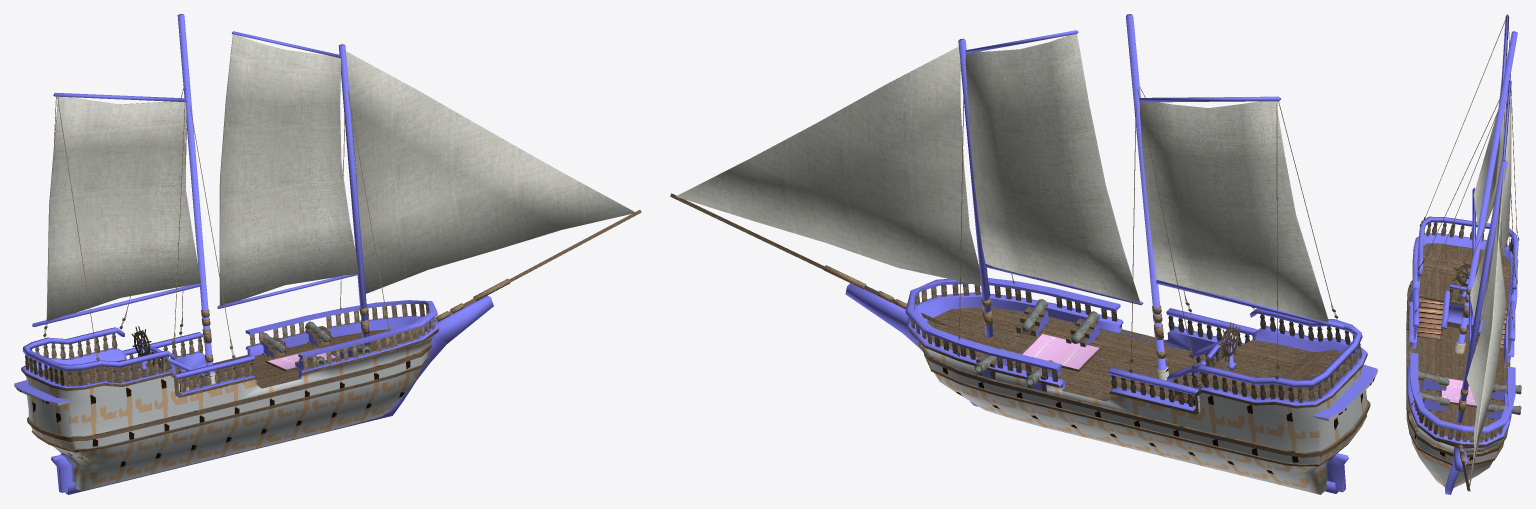
Rendered from ship 2.fbx.
3 views of the same model, side by side, from view 1: azimuth 30°, elevation 25°; view 2: azimuth 150°, elevation 25°; view 3: azimuth 270°, elevation 25° (orthographic). The views are drawn at different scales.
Parts seen in each view (by area): view 1: SolidParts, Ropes_Ropes_0; view 2: SolidParts, Ropes_Ropes_0, SolidParts.003_Metal_0, SolidParts.003_Planks01_0; view 3: SolidParts, Ropes_Ropes_0, SolidParts.003_Metal_0, SolidParts.003_Wood01_0, SolidParts.003_Planks01_0.
Part boxes in pixels (x1=…): SolidParts: x1=14, y1=14, x2=641, y2=494; Ropes_Ropes_0: x1=44, y1=88, x2=392, y2=361; SolidParts: x1=670, y1=14, x2=1377, y2=494; Ropes_Ropes_0: x1=958, y1=87, x2=1337, y2=380; SolidParts.003_Metal_0: x1=974, y1=299, x2=1099, y2=386; SolidParts.003_Planks01_0: x1=976, y1=306, x2=1098, y2=391; SolidParts: x1=1406, y1=14, x2=1518, y2=494; Ropes_Ropes_0: x1=1411, y1=15, x2=1518, y2=420; SolidParts.003_Metal_0: x1=1418, y1=371, x2=1521, y2=414; SolidParts.003_Wood01_0: x1=1422, y1=374, x2=1506, y2=419; SolidParts.003_Planks01_0: x1=1422, y1=371, x2=1506, y2=419.
Size of the model in its own units: 71.88 by 46.79 by 12.72.
